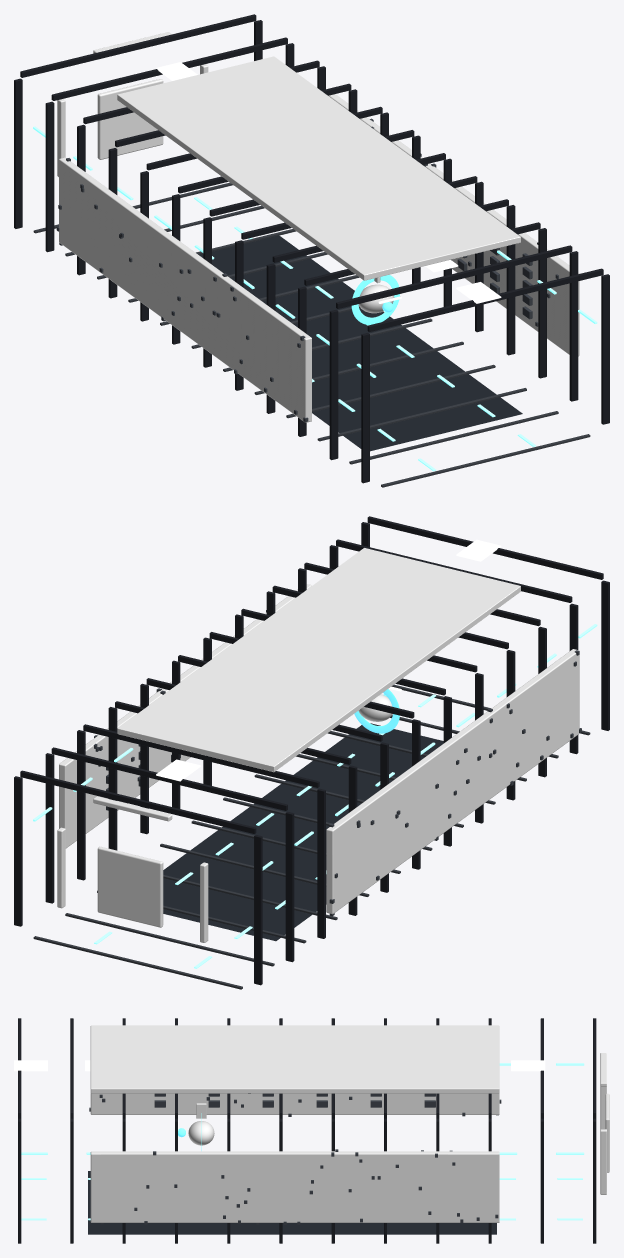
3 views of the same model, one above another, from view 1: azimuth 30°, elevation 25°; view 2: azimuth 150°, elevation 25°; view 3: azimuth 270°, elevation 25° (orthographic). The views are drawn at different scales.
Parts seen in each view (by area): view 1: corridor_ceiling_slab, corridor_wall_left_depth, corridor_floor_long, corridor_wall_right_depth, distant_door_panel_center, corridor_ceiling_cross_rib_12, corridor_ceiling_cross_rib_02, corridor_ceiling_cross_rib_01, corridor_ceiling_cross_rib_11, corridor_rib_left_vertical_11, corridor_rib_left_vertical_02, corridor_rib_right_vertical_02 (+11 smaller); view 2: corridor_ceiling_slab, corridor_wall_left_depth, corridor_floor_long, corridor_wall_right_depth, distant_door_panel_center, corridor_ceiling_cross_rib_12, corridor_ceiling_cross_rib_11, corridor_ceiling_cross_rib_01, corridor_ceiling_cross_rib_10, corridor_rib_left_vertical_11, corridor_rib_right_vertical_11, corridor_rib_left_vertical_01 (+12 smaller); view 3: corridor_wall_right_depth, corridor_ceiling_slab, corridor_wall_left_depth, corridor_floor_long, drone_core_black_body, corridor_rib_right_vertical_01, corridor_rib_right_vertical_12, corridor_rib_right_vertical_02, corridor_rib_right_vertical_11, distant_door_frame_right, corridor_ceiling_light_panel_08, corridor_ceiling_light_panel_01 (+4 smaller).
Boxes of the visible parts, box(x1,y1,x2,y2) form: corridor_ceiling_slab: box(117, 56, 520, 280); corridor_wall_left_depth: box(56, 157, 311, 422); corridor_floor_long: box(199, 235, 522, 451); corridor_wall_right_depth: box(328, 94, 579, 356); distant_door_panel_center: box(97, 79, 163, 159); corridor_ceiling_cross_rib_12: box(20, 14, 256, 77); corridor_ceiling_cross_rib_02: box(336, 245, 572, 308); corridor_ceiling_cross_rib_01: box(367, 268, 603, 331); corridor_ceiling_cross_rib_11: box(51, 37, 287, 100); corridor_rib_left_vertical_11: box(45, 101, 54, 252); corridor_rib_left_vertical_02: box(329, 309, 338, 460); corridor_rib_right_vertical_02: box(569, 251, 578, 401); corridor_ceiling_slab: box(117, 548, 520, 772); corridor_wall_left_depth: box(326, 649, 581, 915); corridor_floor_long: box(163, 723, 443, 941); corridor_wall_right_depth: box(59, 584, 311, 848); distant_door_panel_center: box(97, 846, 163, 927); corridor_ceiling_cross_rib_12: box(20, 770, 256, 833); corridor_ceiling_cross_rib_11: box(51, 747, 287, 810); corridor_ceiling_cross_rib_01: box(367, 516, 603, 579); corridor_ceiling_cross_rib_10: box(83, 724, 319, 787); corridor_rib_left_vertical_11: box(285, 811, 294, 962); corridor_rib_right_vertical_11: box(45, 753, 54, 903); corridor_rib_left_vertical_01: box(601, 580, 609, 730); corridor_wall_right_depth: box(90, 1149, 499, 1224); corridor_ceiling_slab: box(90, 1025, 499, 1093); corridor_wall_left_depth: box(89, 1093, 501, 1116); corridor_floor_long: box(88, 1171, 496, 1234); drone_core_black_body: box(188, 1121, 214, 1145); corridor_rib_right_vertical_01: box(18, 1118, 21, 1243); corridor_rib_right_vertical_12: box(593, 1118, 596, 1243); corridor_rib_right_vertical_02: box(70, 1118, 73, 1243); corridor_rib_right_vertical_11: box(540, 1118, 543, 1243); distant_door_frame_right: box(600, 1129, 606, 1194); corridor_ceiling_light_panel_08: box(511, 1060, 545, 1071); corridor_ceiling_light_panel_01: box(14, 1060, 47, 1071).
Bounding box in the file's own units: 4.68 × 2.83 × 10.49.
